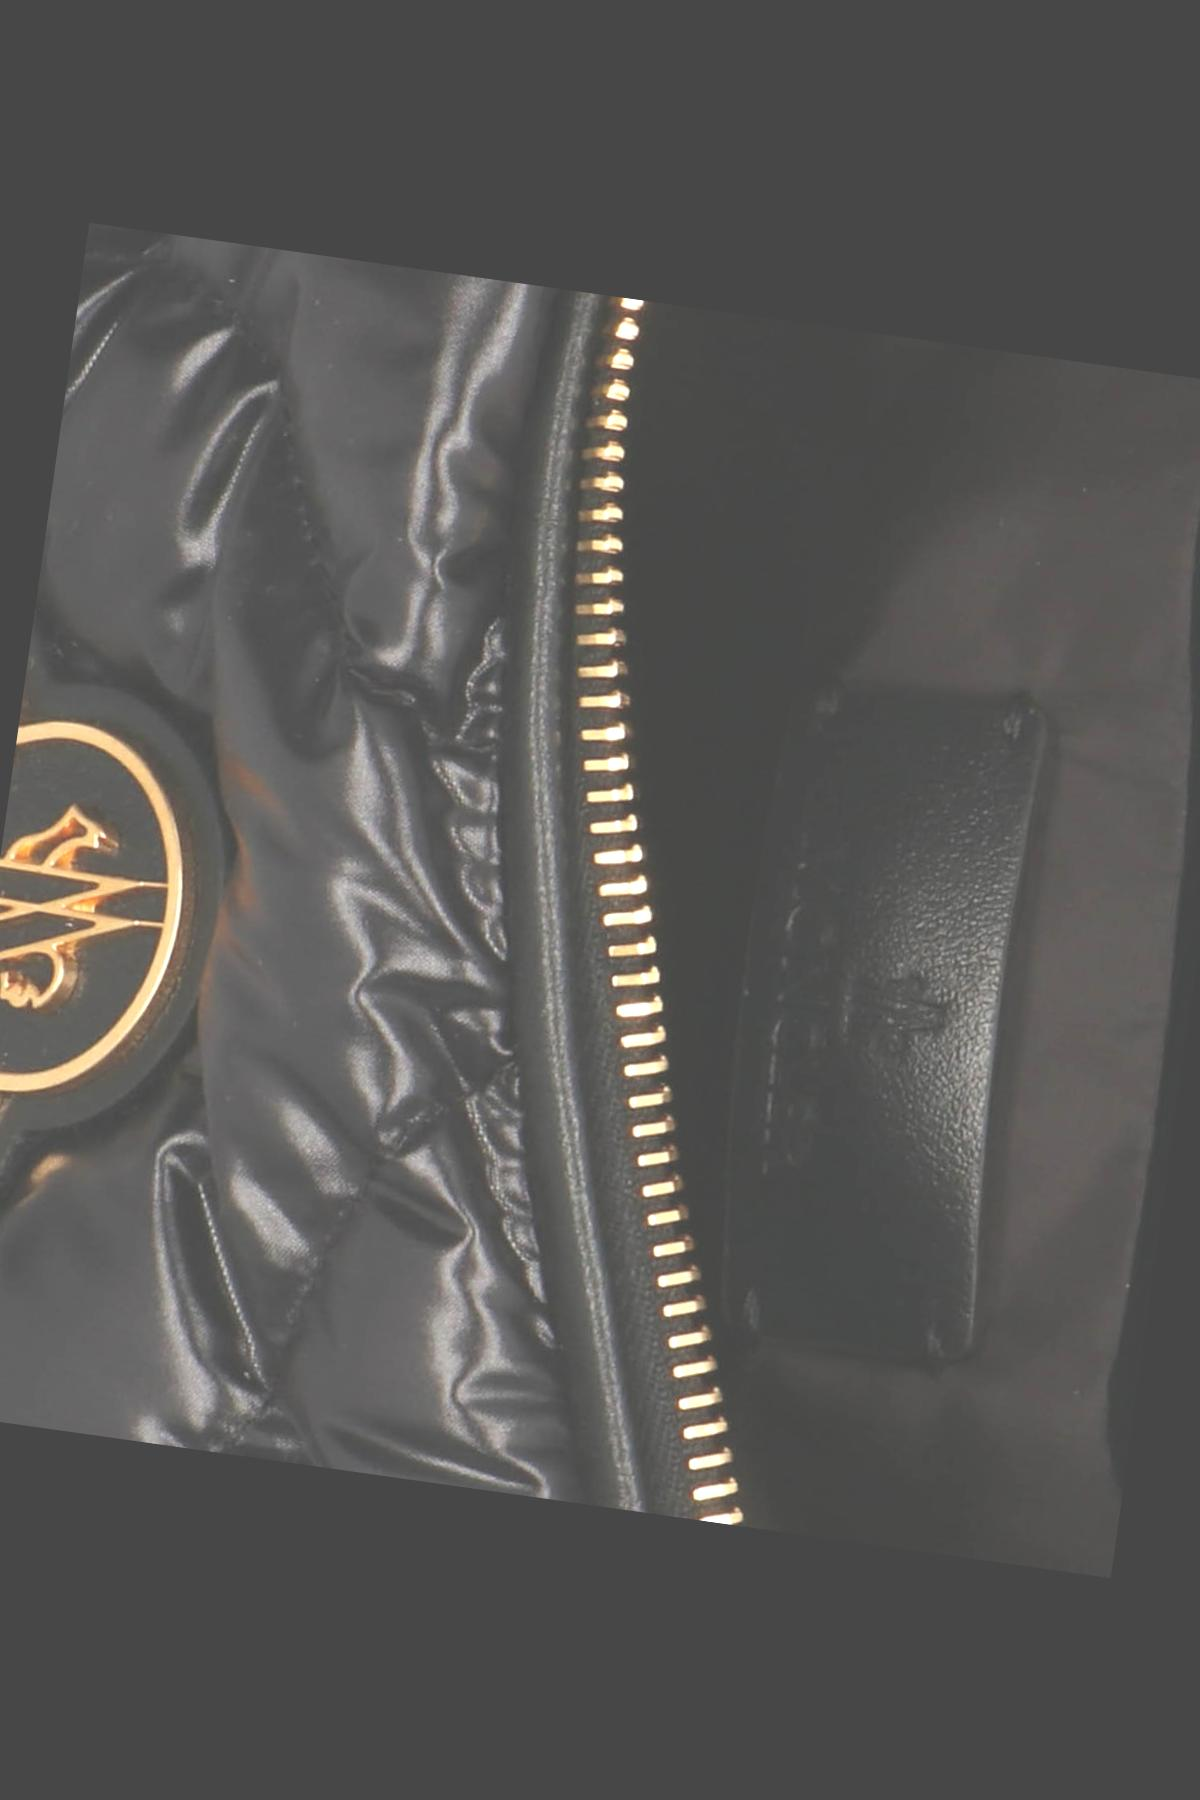MONCLER: (0, 601, 269, 1244)
